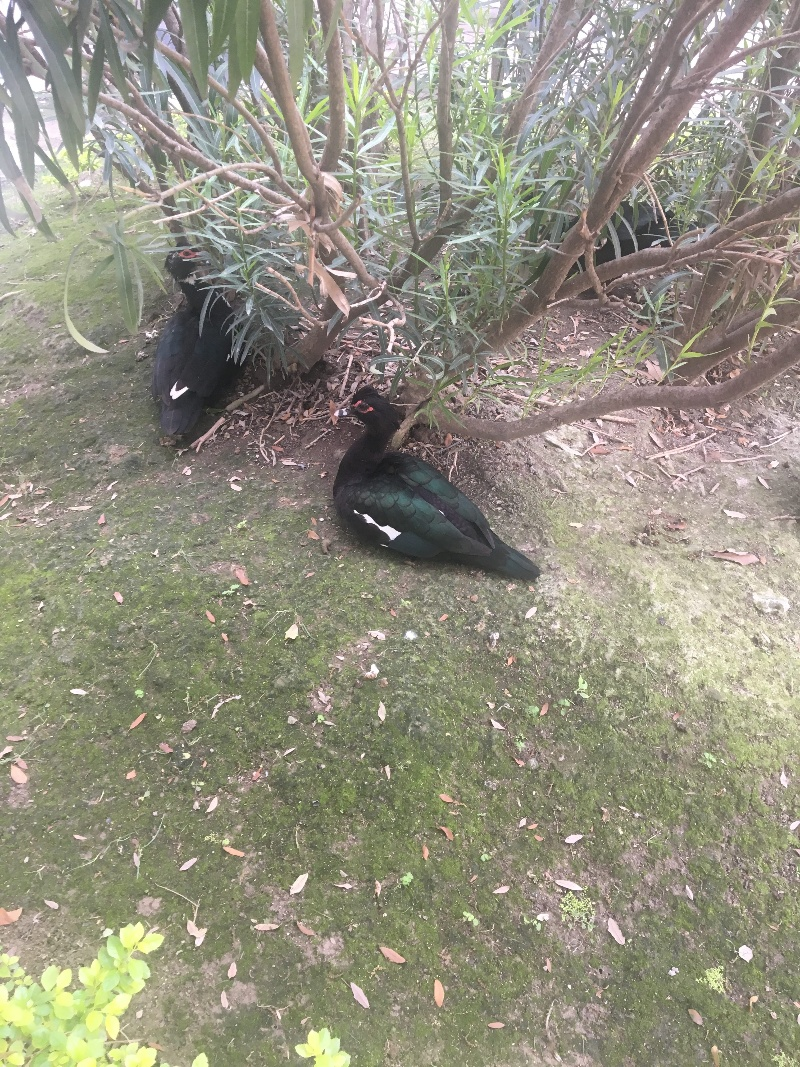pato: (327, 394, 526, 576), (160, 250, 239, 436)
